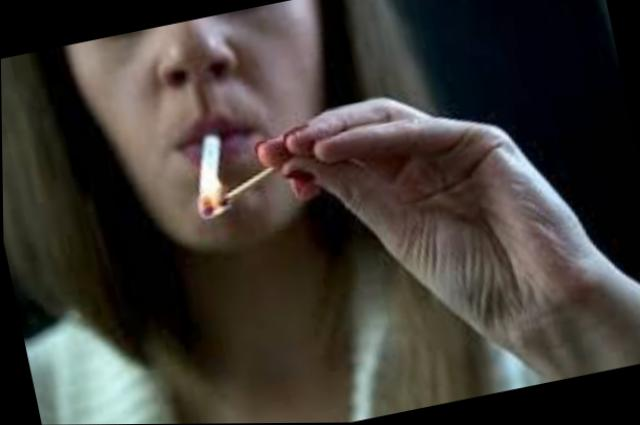fire: (190, 174, 247, 226)
